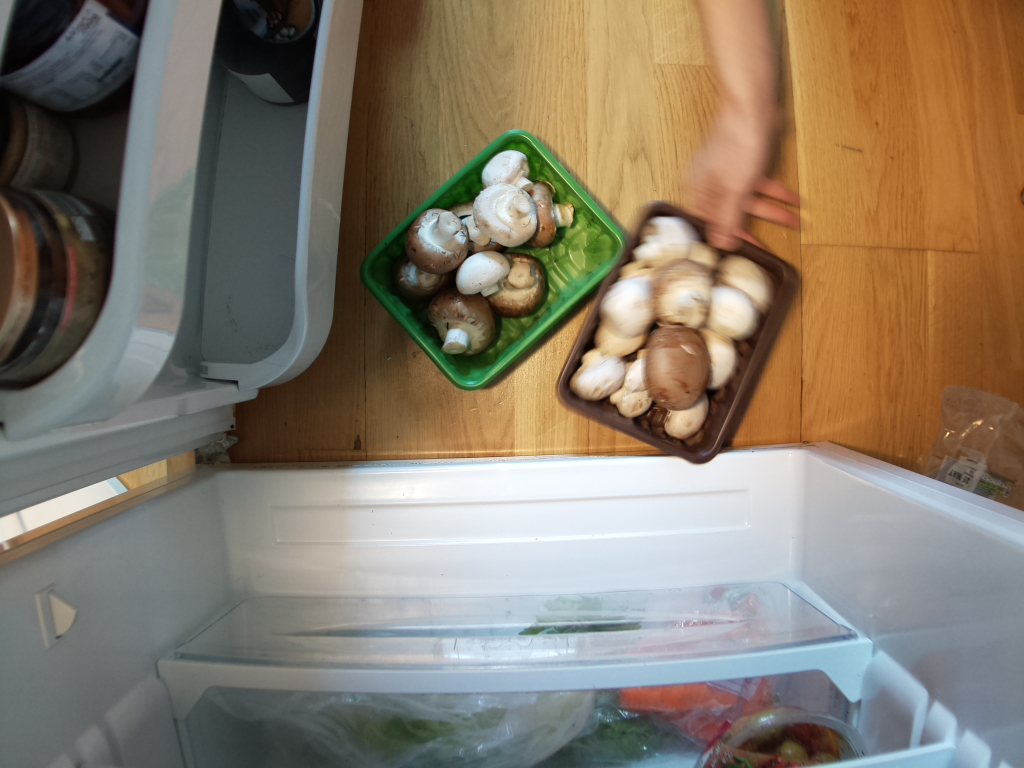mushrooms: (369, 132, 627, 390), (557, 200, 799, 465)
